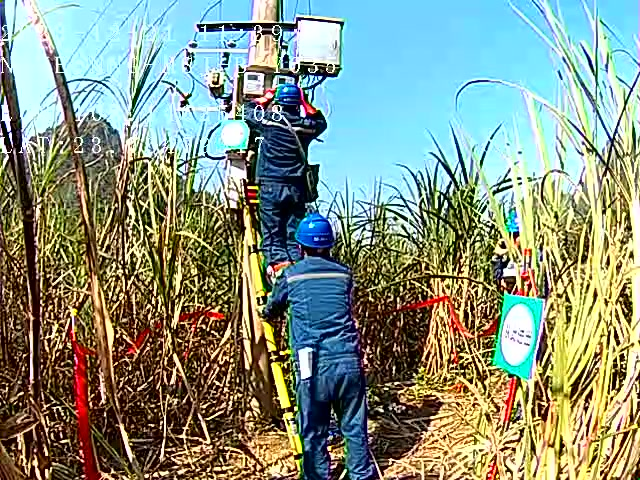downsuit: (301, 366, 376, 480), (258, 185, 301, 254)
halt: (294, 214, 337, 257), (270, 81, 301, 115)
intosign: (486, 291, 544, 384)
longglove: (298, 86, 319, 116), (253, 86, 280, 108)
person: (267, 213, 379, 480), (242, 81, 328, 215)
upsuit: (272, 258, 362, 352), (243, 108, 326, 180)
